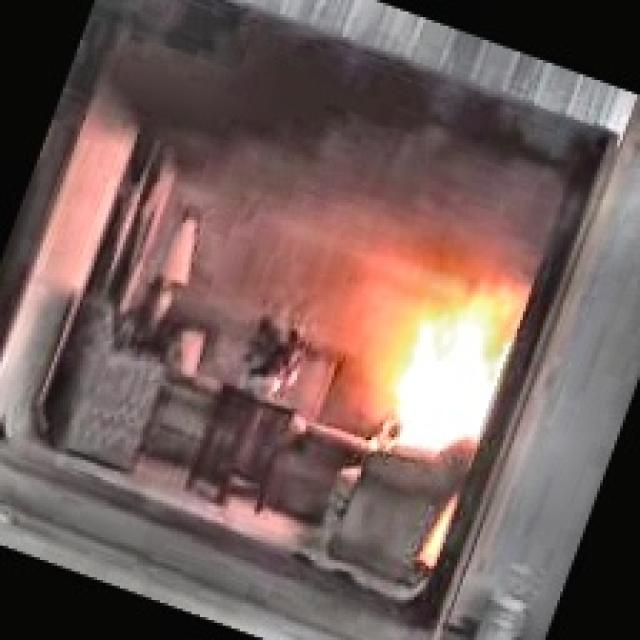fire: (352, 256, 554, 481)
smoke: (47, 0, 619, 337)
